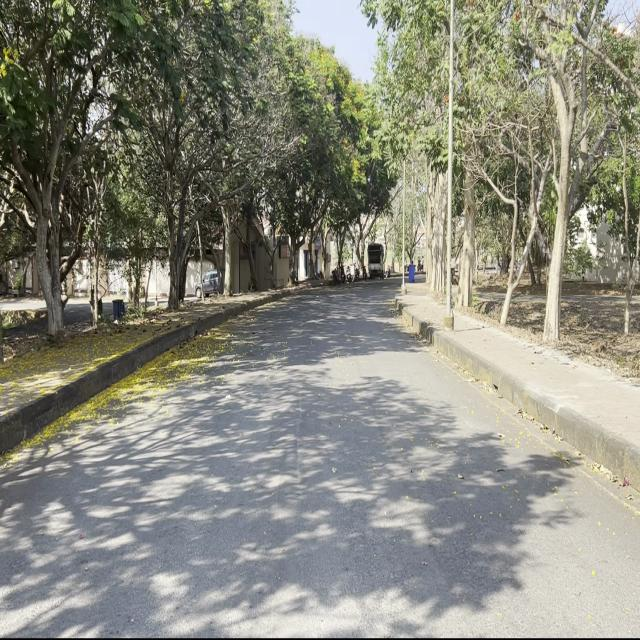Object: (364, 237, 385, 281)
Road: (3, 284, 639, 632)
